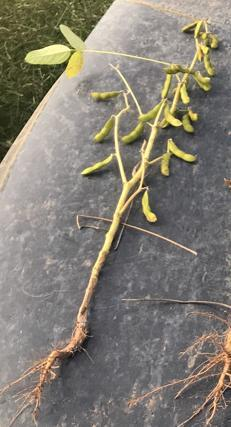soja: (78, 154, 116, 178), (167, 140, 200, 163), (141, 189, 160, 227), (94, 116, 118, 145), (161, 105, 181, 132), (157, 72, 173, 103), (89, 89, 122, 104), (122, 125, 147, 144), (189, 75, 211, 95), (137, 105, 162, 122), (178, 116, 198, 136), (160, 152, 174, 179), (202, 56, 219, 77), (167, 62, 187, 79), (194, 67, 210, 87), (179, 83, 192, 105), (183, 18, 202, 33), (210, 35, 225, 52), (188, 105, 200, 122), (198, 42, 213, 55)
